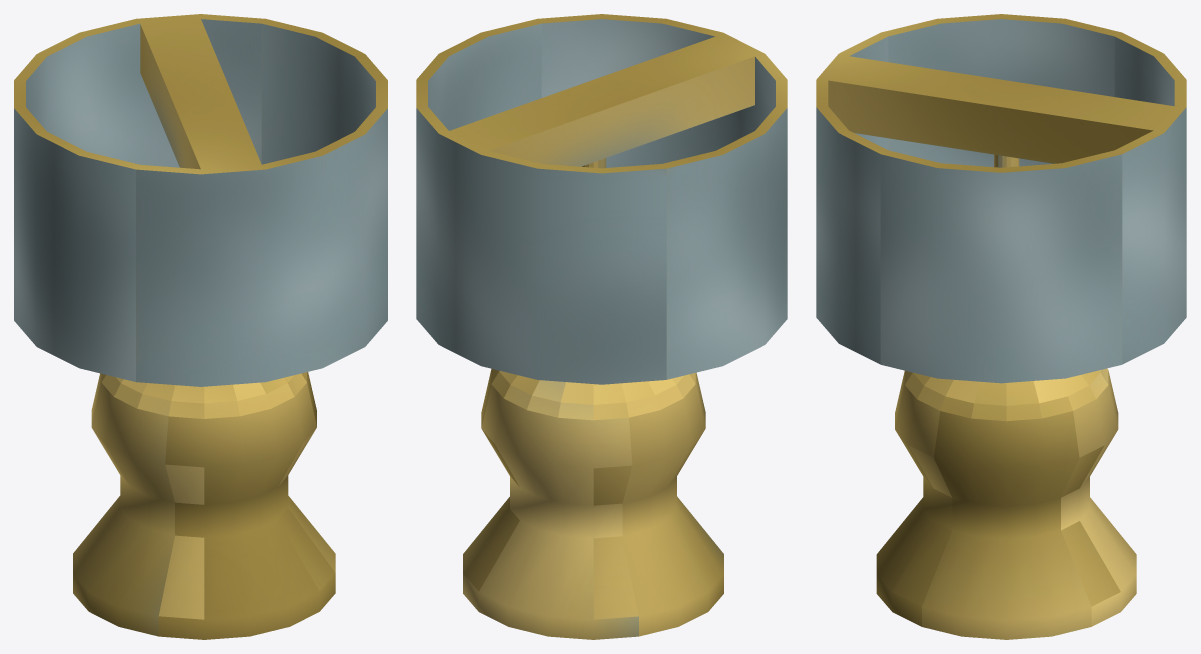
Rendered from LampSide.fbx.
3 views of the same model, side by side, from view 1: azimuth 30°, elevation 25°; view 2: azimuth 150°, elevation 25°; view 3: azimuth 270°, elevation 25° (orthographic).
Visible parts, largest first — view 1: Cylinder002, Cylinder001; view 2: Cylinder002, Cylinder001; view 3: Cylinder002, Cylinder001.
Part boxes in pixels (left/top/right/bottom): Cylinder002: left=14, top=14, right=387, bottom=386; Cylinder001: left=73, top=372, right=335, bottom=639; Cylinder002: left=416, top=14, right=787, bottom=384; Cylinder001: left=463, top=158, right=723, bottom=639; Cylinder002: left=816, top=14, right=1186, bottom=383; Cylinder001: left=876, top=154, right=1136, bottom=639.
Bounding box in the file's own units: 7.86 × 11.26 × 7.74.
1 material, 1 textured.
